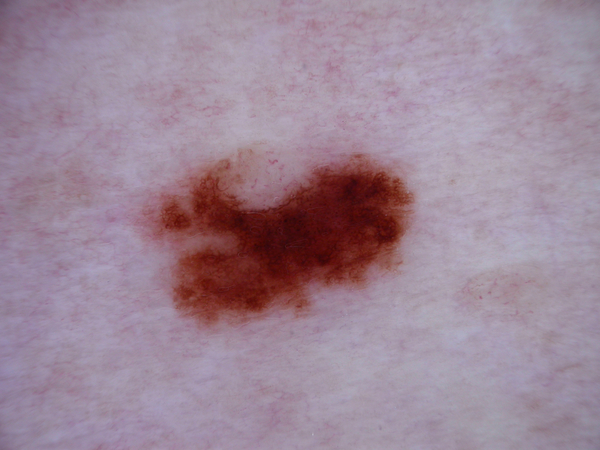Detected Lesion: (144, 140, 417, 330)
